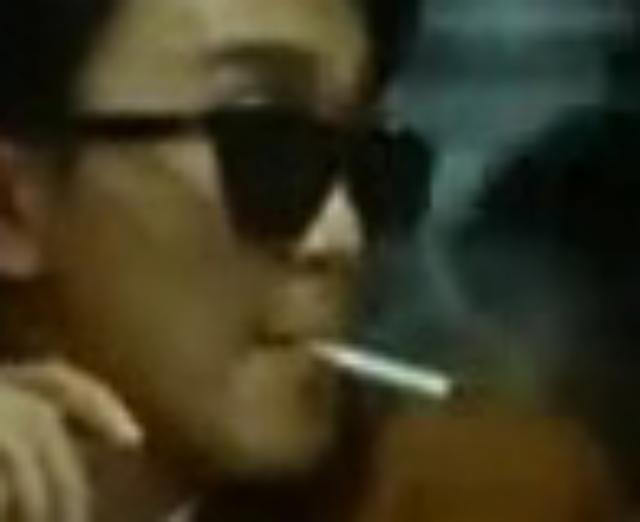Smoking: (282, 334, 450, 398)
